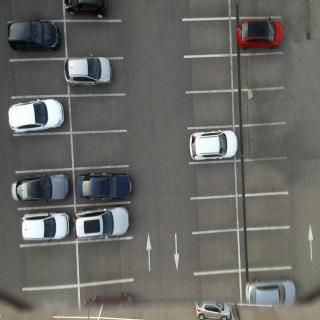car: (8, 98, 65, 135), (75, 203, 131, 240), (6, 23, 62, 56), (12, 173, 73, 203), (245, 275, 300, 307), (20, 210, 73, 243), (188, 129, 240, 161), (77, 170, 132, 200), (65, 56, 114, 87), (235, 23, 285, 53), (64, 2, 103, 18), (198, 301, 232, 319), (237, 303, 271, 319)
parking-space: (77, 237, 135, 289), (67, 91, 131, 138), (21, 244, 79, 294), (63, 17, 125, 62), (244, 223, 294, 275), (8, 57, 69, 99), (72, 128, 129, 170), (193, 228, 241, 277), (235, 51, 288, 95), (182, 16, 234, 59), (15, 133, 72, 171), (242, 157, 292, 199), (184, 54, 235, 95), (242, 194, 294, 234), (237, 123, 287, 164), (185, 89, 233, 131), (191, 194, 239, 236), (195, 269, 244, 309), (190, 162, 238, 200), (6, 1, 67, 26), (237, 94, 285, 120), (231, 2, 286, 24), (180, 2, 232, 22), (233, 303, 276, 319)
